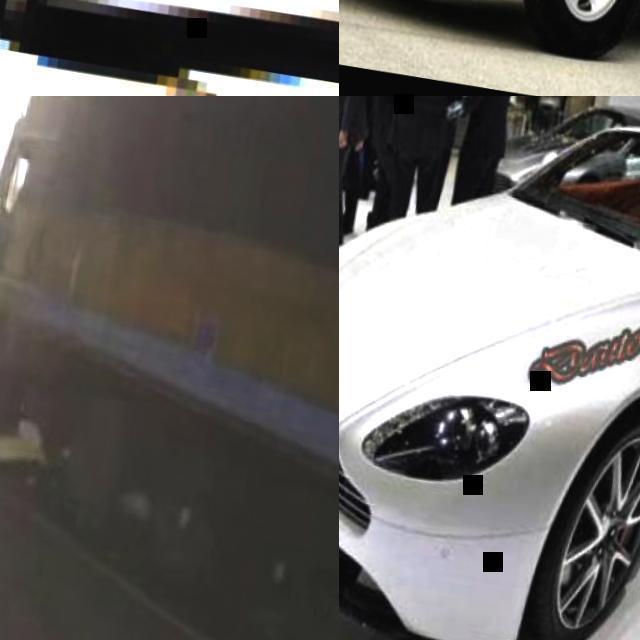car: (333, 114, 639, 639)
